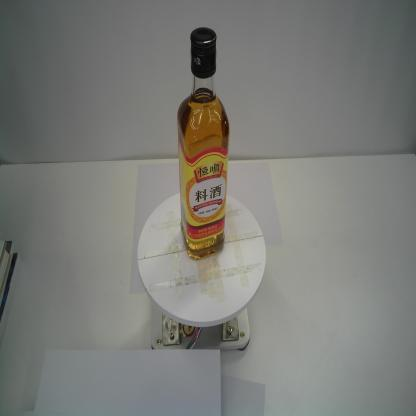Seasoner: (176, 24, 232, 261)
